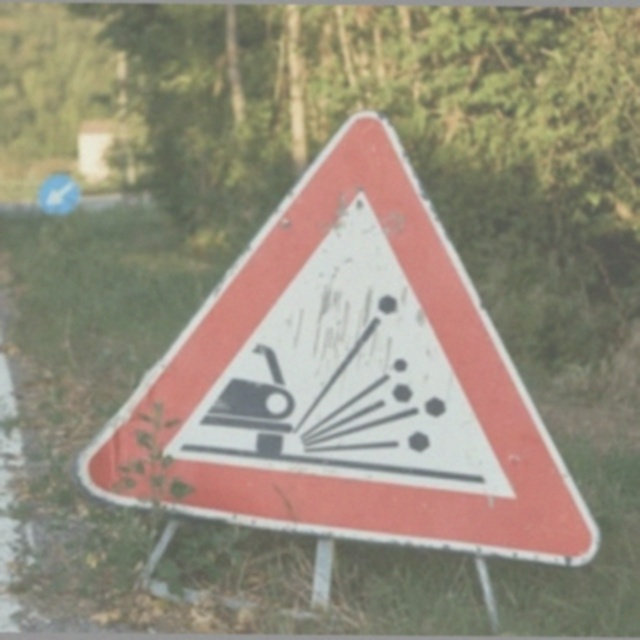Loose_Gravel: (99, 115, 568, 541)
